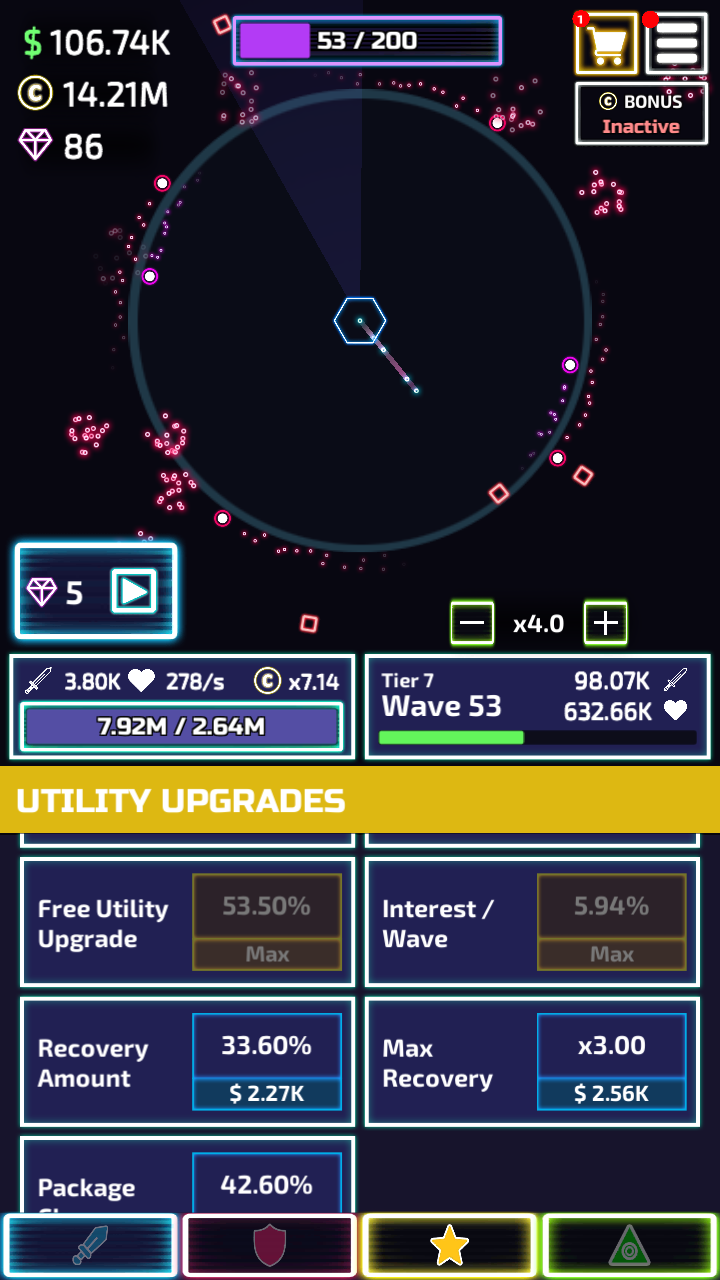B_Gem_Ad: (9, 538, 182, 639)
B_Menu_Action_Required: (638, 7, 701, 71)
B_Menu_Closed: (572, 9, 706, 74)
B_Shop_Action_Required: (570, 12, 632, 68)
B_Slot: (18, 851, 355, 979), (362, 857, 694, 982), (19, 998, 353, 1120), (364, 1000, 695, 1115), (358, 1128, 710, 1205), (20, 1137, 348, 1210)
B_Slot_Button: (189, 1015, 344, 1113), (532, 875, 688, 971), (189, 875, 344, 971), (533, 1015, 686, 1109), (187, 1152, 344, 1213)
B_Slot_Label: (22, 889, 175, 958), (23, 1032, 165, 1100), (369, 1033, 509, 1100), (369, 890, 506, 956), (26, 1168, 147, 1208)
B_Slot_Maxed: (187, 872, 342, 972), (532, 873, 682, 974)
B_Slot_Price: (211, 1074, 311, 1109), (559, 1076, 658, 1108)
B_Slot_Value: (199, 1159, 326, 1204), (201, 1024, 323, 1062), (206, 887, 325, 922), (555, 888, 663, 925), (556, 1027, 658, 1063)
B_Tab_Utility: (0, 766, 720, 843)
